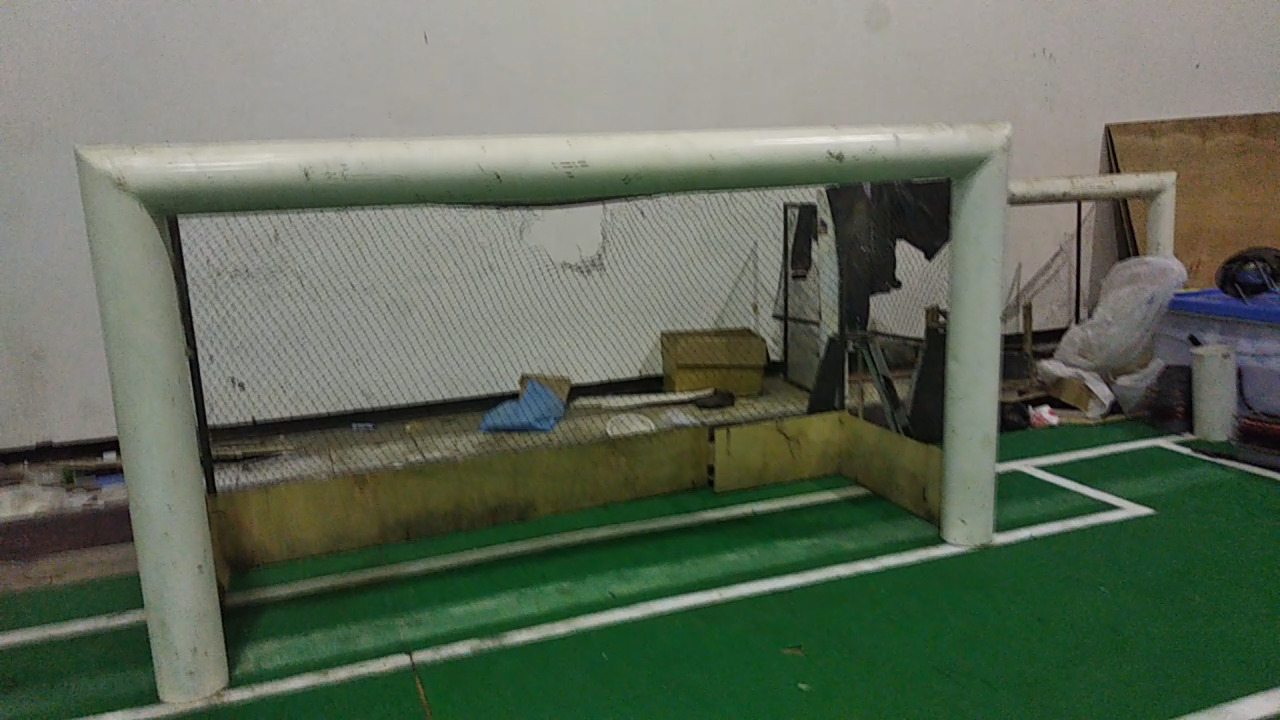gawang: (58, 110, 1021, 719)
